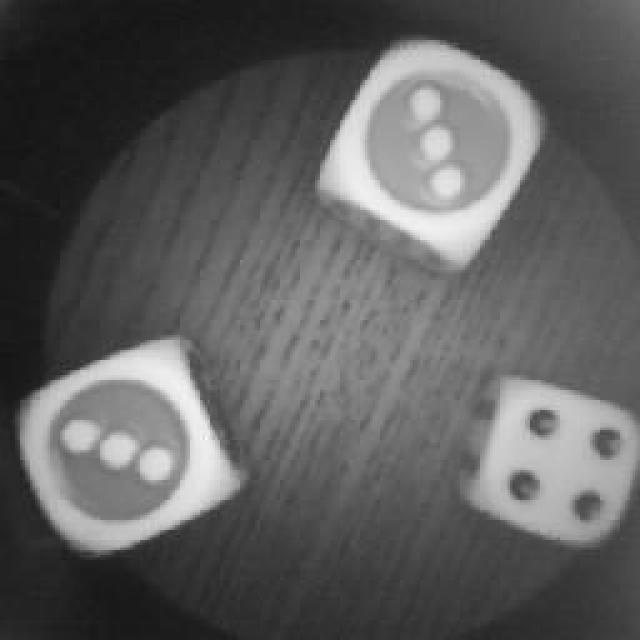dice_3: (318, 35, 542, 263), (20, 340, 235, 565)
dice_4: (465, 375, 640, 557)
